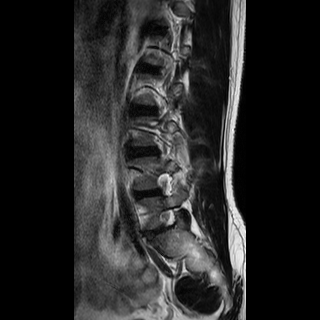RFS0: (150, 167, 179, 202), (153, 203, 182, 237)
